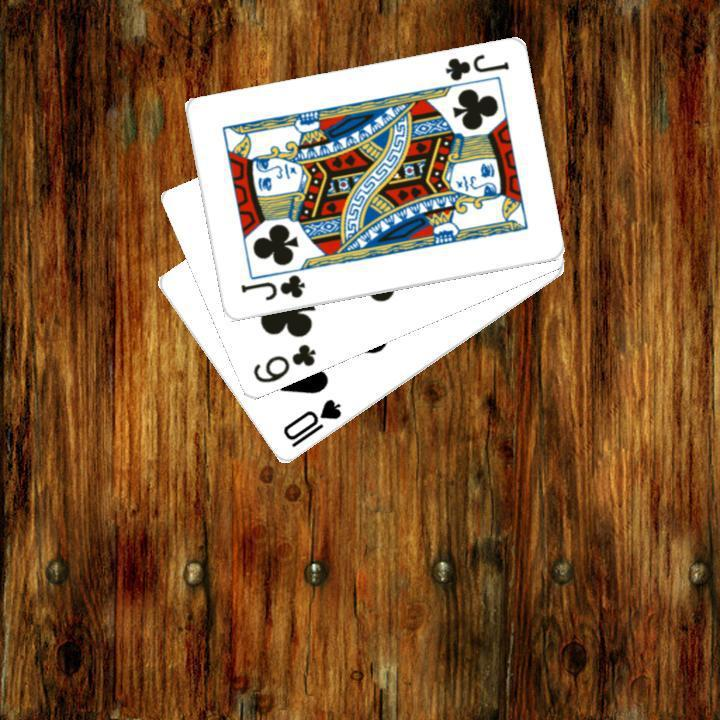10: (278, 395, 344, 450)
6: (248, 340, 318, 386)
J: (440, 50, 511, 84), (235, 271, 307, 304)
